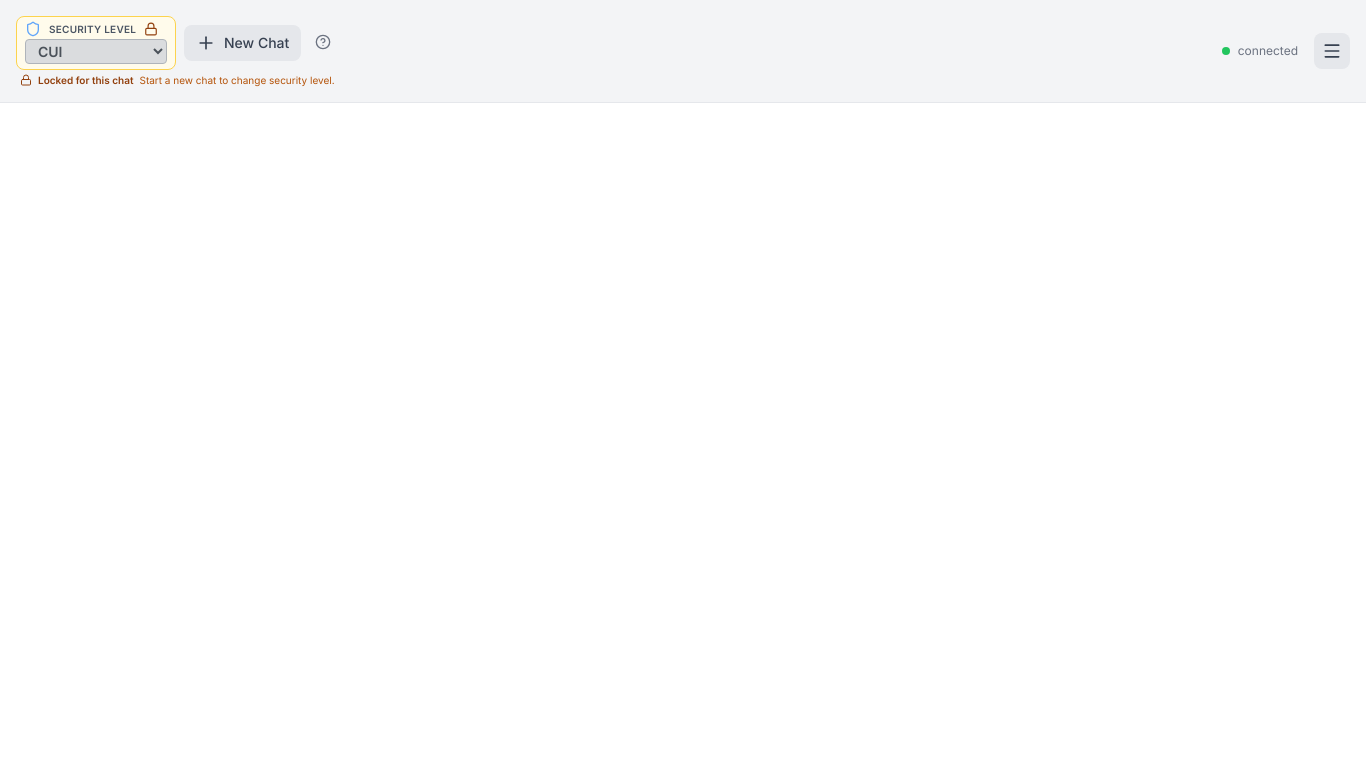
header compliance selector lock (issue #1044) › shows a recorded level the deployment no longer defines
This screenshot has width=1366, height=768.
Click the button titled "Menu" at coordinates (1332, 51), box [1314, 33, 1350, 69]
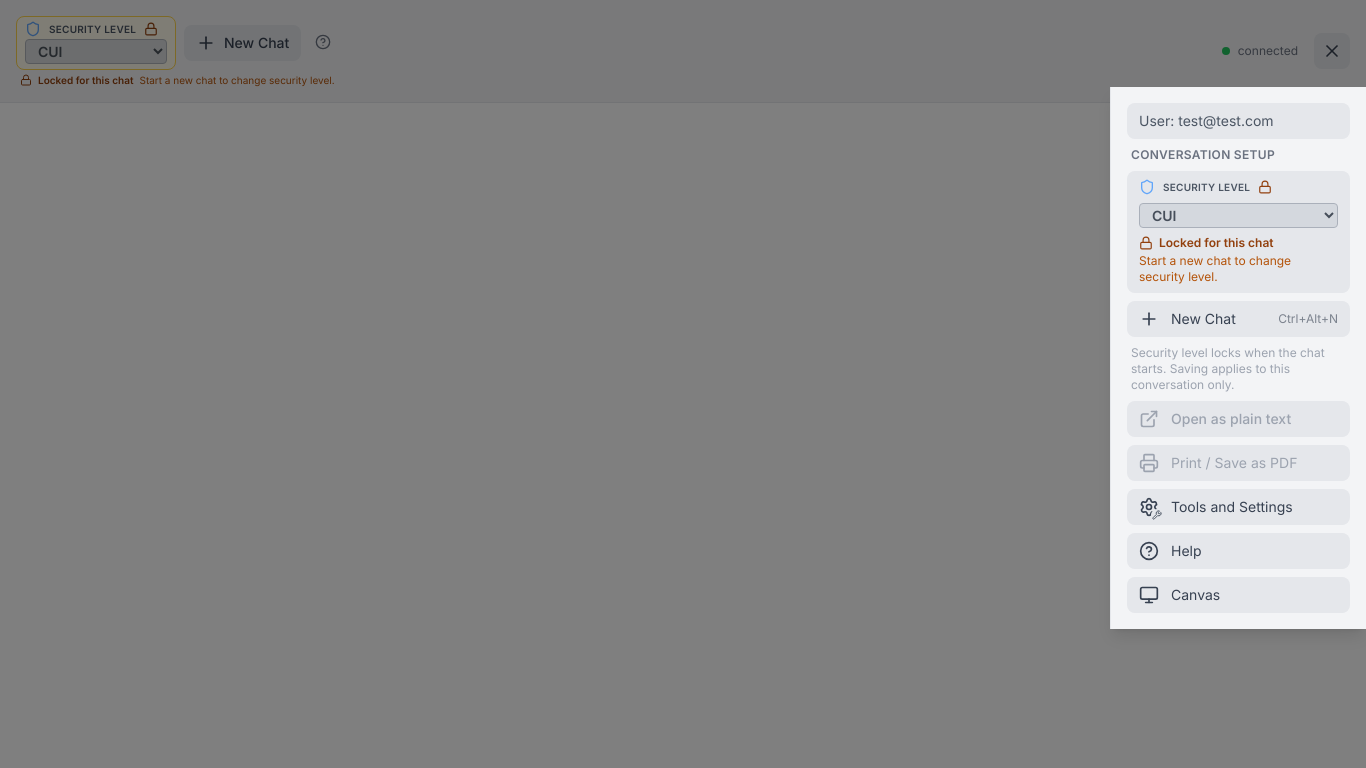
Expected: the number of dropdowns labelled "Security level" is 2, [25, 39, 167, 64]; [1139, 203, 1338, 228]
Result: the dropdown labelled "Security level" is disabled at [1139, 203, 1338, 228]
Result: the dropdown labelled "Security level" shows "CUI" at [1139, 203, 1338, 228]
